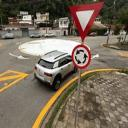Rotatoria: (72, 44, 92, 69)
preferencia: (66, 1, 104, 43)
